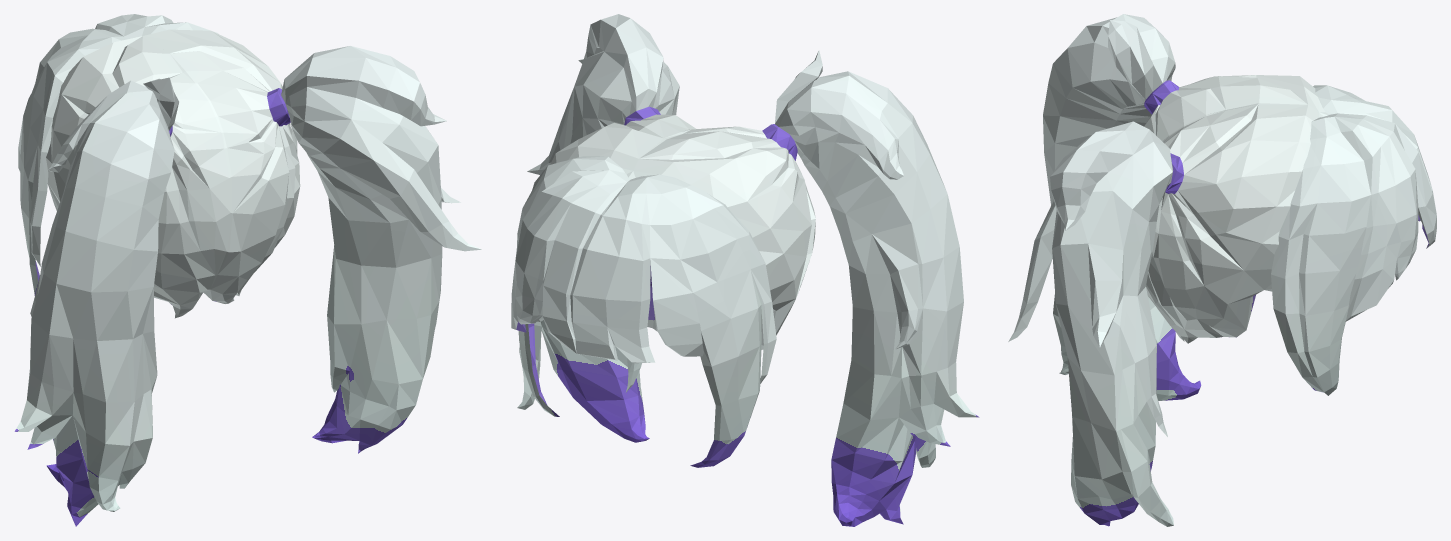
File: CharSkyKid_Hair_MeteorPigtails.glb
3 renders of one model, left to right at view 1: azimuth 30°, elevation 25°; view 2: azimuth 150°, elevation 25°; view 3: azimuth 270°, elevation 25°, orthographic. The views are drawn at different scales.
Visible parts, largest first — view 1: CharSkyKid_Hair_MeteorPigtails; view 2: CharSkyKid_Hair_MeteorPigtails; view 3: CharSkyKid_Hair_MeteorPigtails.
Boxes of the visible parts, x1,y1,x2,y2 form: CharSkyKid_Hair_MeteorPigtails: (14,14,481,526); CharSkyKid_Hair_MeteorPigtails: (511,14,979,526); CharSkyKid_Hair_MeteorPigtails: (1008,14,1436,526).
Size of the model in its own units: 4.9 by 4.58 by 4.17.
Materials: 1 (1 with a texture image).
